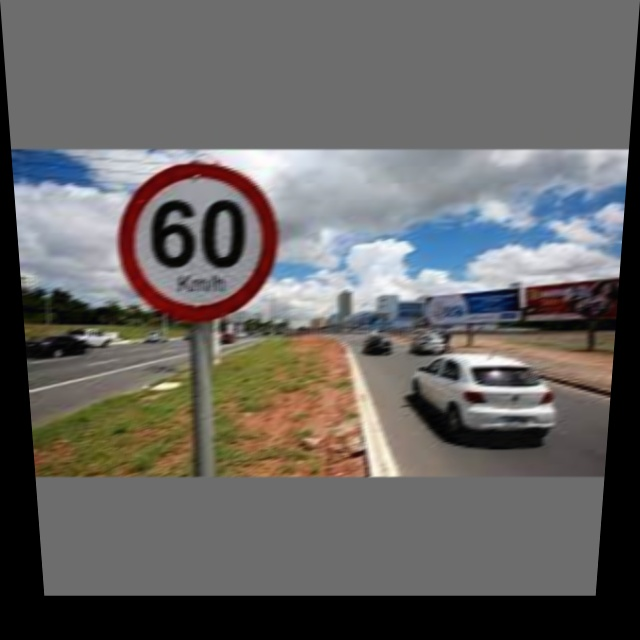Speed_Limit_60: (116, 158, 273, 320)
